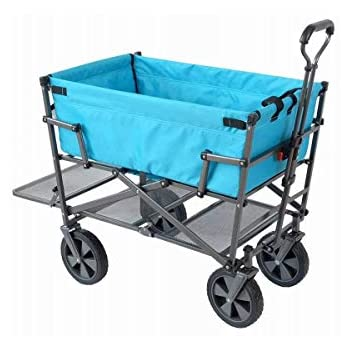Carts: (8, 17, 334, 329)
